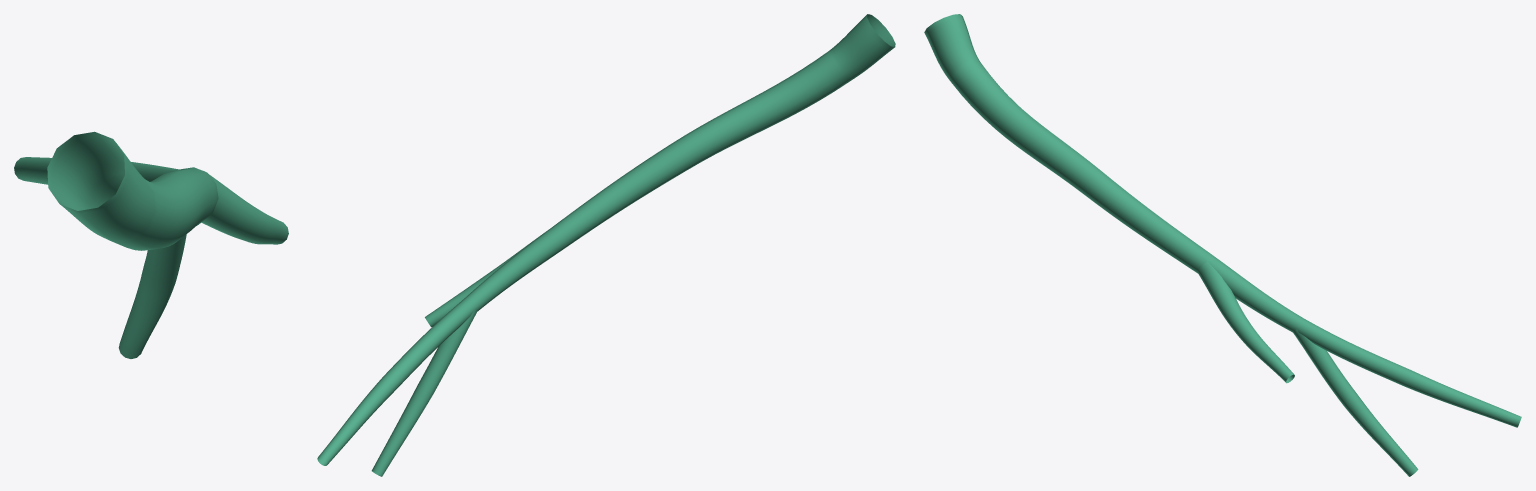
3 views of the same model, side by side, from view 1: azimuth 30°, elevation 25°; view 2: azimuth 150°, elevation 25°; view 3: azimuth 270°, elevation 25° (orthographic). The views are drawn at different scales.
Visible parts, largest first — view 1: 左肺前内侧底段支气管; view 2: 左肺前内侧底段支气管; view 3: 左肺前内侧底段支气管.
Boxes of the visible parts, box(x1,y1,x2,y2) form: 左肺前内侧底段支气管: box(14, 131, 288, 358); 左肺前内侧底段支气管: box(317, 14, 895, 476); 左肺前内侧底段支气管: box(924, 14, 1521, 476).
Size of the model in its own units: 0.0811 by 0.092 by 0.146.
